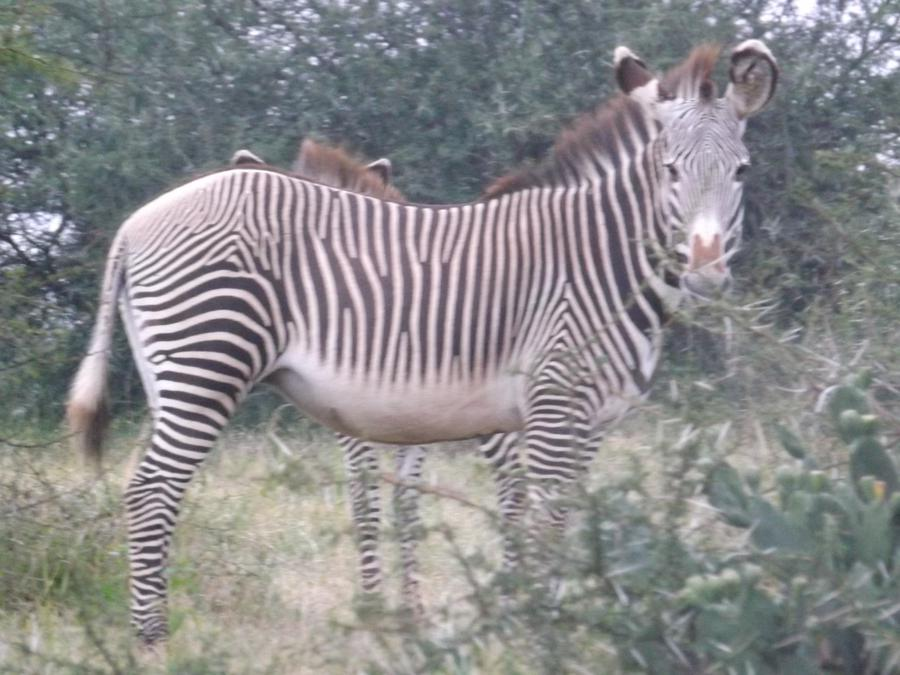zebra_grevys: (123, 152, 608, 433)
